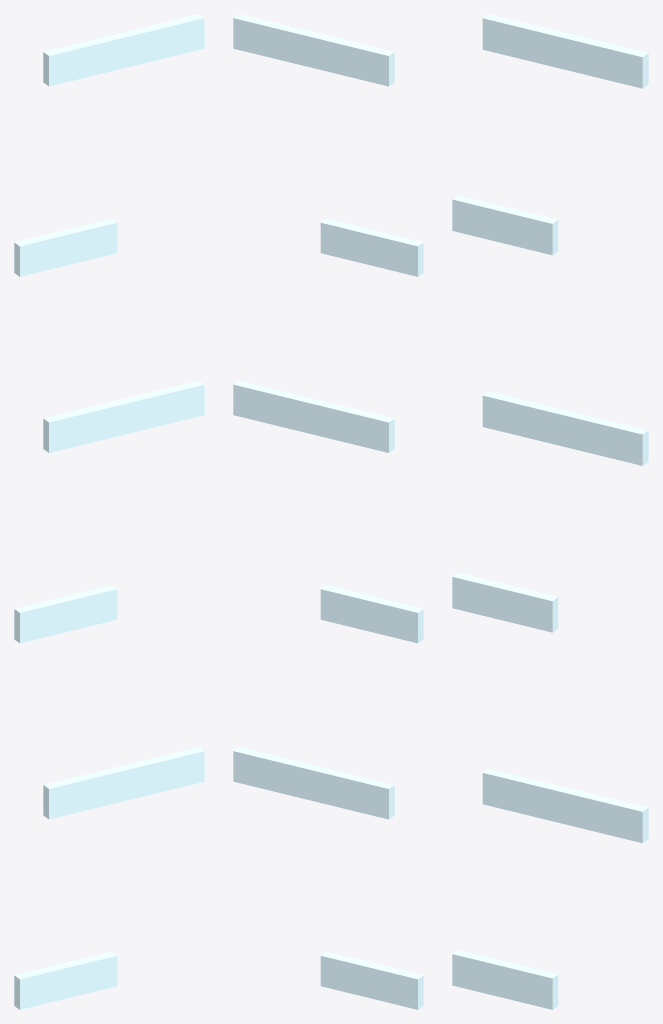
The model's file is ville_statue_runes.glb.
3 views of the same model, side by side, from view 1: azimuth 30°, elevation 25°; view 2: azimuth 150°, elevation 25°; view 3: azimuth 330°, elevation 25° (orthographic). The views are drawn at different scales.
Parts seen in each view (by area): view 1: statue_runes; view 2: statue_runes; view 3: statue_runes.
Boxes of the visible parts, bbox=[...] form: statue_runes: bbox=[14, 14, 204, 1009]; statue_runes: bbox=[233, 14, 423, 1009]; statue_runes: bbox=[452, 14, 648, 1009].
Bounding box in the file's own units: 0.38 × 1.86 × 0.02.
